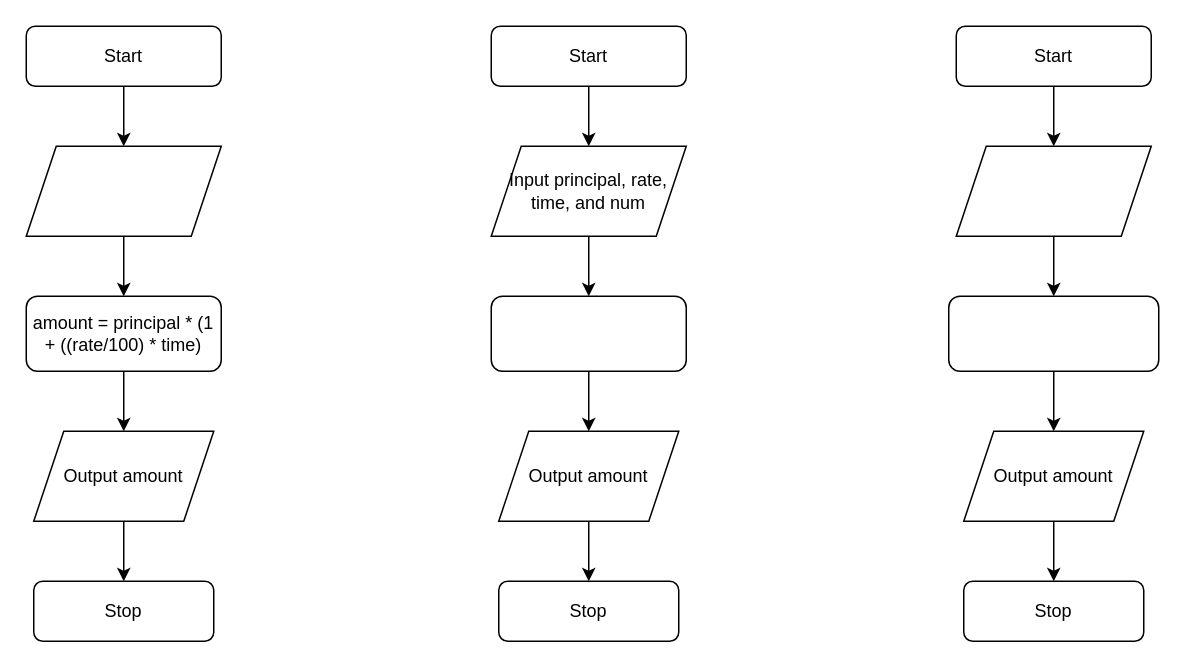
The diagram is 1185 pixels wide and 668 high, and some of its shapes have lost their labels. The centre of each missing label's shape, as x and y in pixels:
"amount = pmt * ((((1+(rate/num)) ^ (num*time))-1)/(rate/num))" goes at point 1053,333.
"amount = principal * ((1 + (rate/num)) ^ (num * time))" goes at point 588,333.
"Input pmt, rate, time, and num" goes at point 1053,190.
"Input principal, rate, and time" goes at point 123,190.
